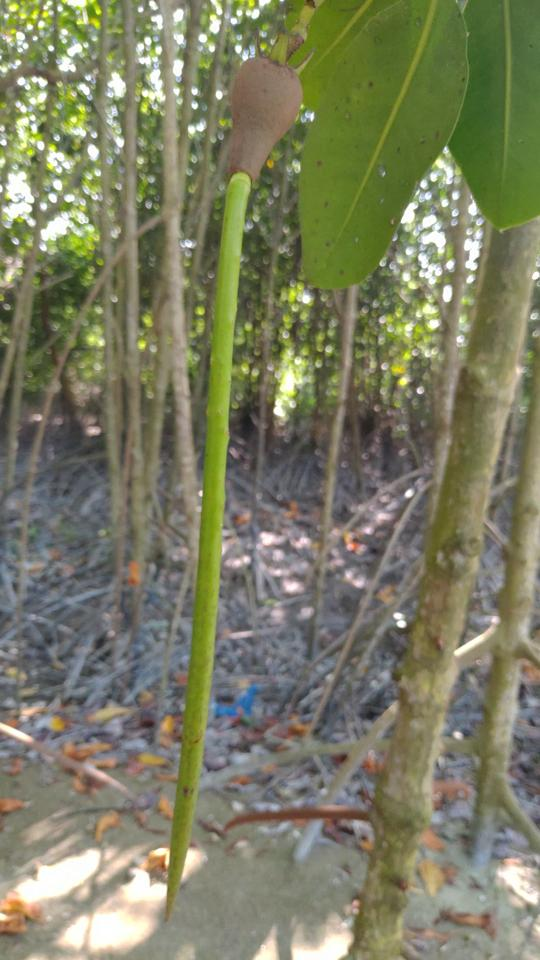setengah matang: (146, 29, 317, 929)
